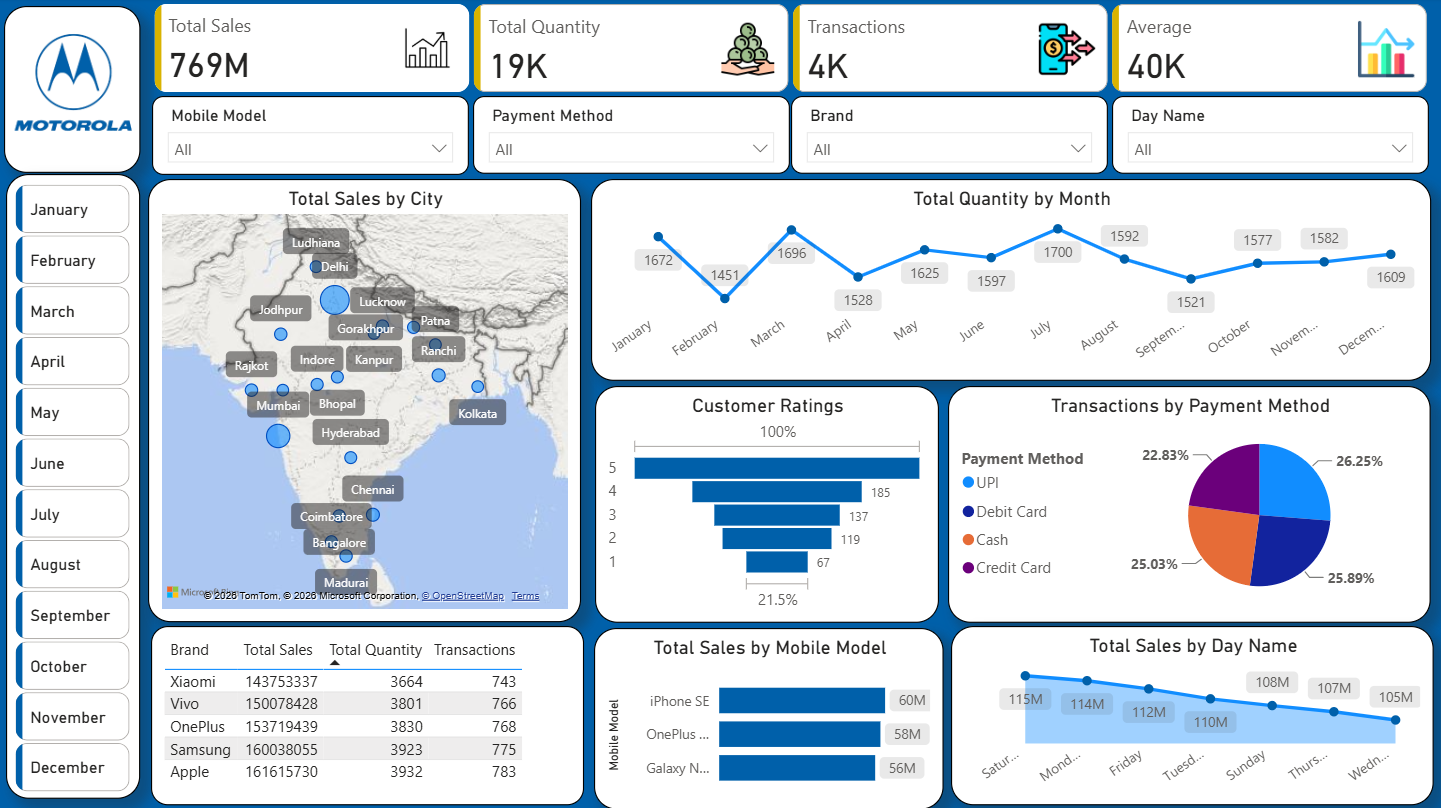

The dashboard page shown, as its layout file describes it:
{"tool":"powerbi","page":{"name":"Page 1","canvas":[1280,720],"ordinal":0},"visuals":[{"type":"shape","box":[5.5,6.9,120.8,148.2],"z":0},{"type":"image","box":[9.6,16.5,113.9,116.6],"z":1000},{"type":"shape","box":[6.9,156.4,119.4,554.4],"z":2000},{"type":"advancedSlicerVisual","fields":{"Values":["Sales_Data.Date.Variation.Date Hierarchy.Month"]},"box":[11,160.5,111.1,548.9],"z":3000},{"type":"cardVisual","fields":{"Data":["Sales_Data.Total Sales","Sales_Data.Total Quantity","Sales_Data.Transactions","Sales_Data.Average"]},"box":[134,5.6,1140.1,83.7],"z":4000},{"type":"map","fields":{"Category":["Sales_Data.City"],"Size":["Sales_Data.Total Sales"]},"box":[132.9,160.8,384.1,393.1],"z":5000},{"type":"lineChart","fields":{"Y":["Sales_Data.Total Quantity"],"Category":["Sales_Data.Date.Variation.Date Hierarchy.Month","Sales_Data.Date.Variation.Date Hierarchy.Day"]},"box":[525.9,160.8,744.8,178.7],"z":6000},{"type":"clusteredBarChart","fields":{"Category":["Sales_Data.Mobile Model"],"Y":["Sales_Data.Total Sales"]},"box":[528.3,558.5,310.1,160.5],"z":7000},{"type":"pieChart","fields":{"Category":["Sales_Data.Payment Method"],"Y":["Sales_Data.Transactions"]},"box":[842.5,344.4,428.1,209.9],"z":8000},{"type":"funnel","title":"Customer Ratings","fields":{"Category":["Sales_Data.Customer Ratings"],"Y":["CountNonNull(Sales_Data.Customer Ratings)"]},"box":[529.7,344.4,304.6,209.9],"z":9000},{"type":"areaChart","fields":{"Category":["Sales_Data.Day Name"],"Y":["Sales_Data.Total Sales"]},"box":[845.3,557.1,428.1,159.2],"z":10000},{"type":"tableEx","fields":{"Values":["Sales_Data.Brand","Sales_Data.Total Sales","Sales_Data.Total Quantity","Sales_Data.Transactions"]},"box":[135.8,557.1,384.2,159.2],"z":11000},{"type":"slicer","fields":{"Values":["Sales_Data.Mobile Model"]},"box":[136.2,87.1,281.4,70.3],"z":12000},{"type":"slicer","fields":{"Values":["Sales_Data.Payment Method"]},"box":[421,87.1,281.4,69.2],"z":13000},{"type":"slicer","fields":{"Values":["Sales_Data.Brand"]},"box":[703.5,87.1,281.4,69.2],"z":14000},{"type":"slicer","fields":{"Values":["Sales_Data.Day Name"]},"box":[988.2,87.1,281.4,69.2],"z":15000}]}

Visuals, with their boxes in screenshot pixels (x1, y1, x2, y2), scaled from the page's 1280x720 canvas onto the 1441x808 screenshot:
shape: bbox=(6, 8, 142, 174)
image: bbox=(11, 19, 139, 149)
shape: bbox=(8, 176, 142, 798)
advancedSlicerVisual - Sales_Data.Date.Variation.Date Hierarchy.Month: bbox=(12, 180, 137, 796)
cardVisual - Sales_Data.Total Sales x Sales_Data.Total Quantity: bbox=(151, 6, 1434, 100)
map - Sales_Data.City x Sales_Data.Total Sales: bbox=(150, 180, 582, 622)
lineChart - Sales_Data.Total Quantity x Sales_Data.Date.Variation.Date Hierarchy.Month: bbox=(592, 180, 1431, 381)
clusteredBarChart - Sales_Data.Mobile Model x Sales_Data.Total Sales: bbox=(595, 627, 944, 807)
pieChart - Sales_Data.Payment Method x Sales_Data.Transactions: bbox=(948, 386, 1430, 622)
"Customer Ratings" funnel: bbox=(596, 386, 939, 622)
areaChart - Sales_Data.Day Name x Sales_Data.Total Sales: bbox=(952, 625, 1434, 804)
tableEx - Sales_Data.Brand x Sales_Data.Total Sales: bbox=(153, 625, 585, 804)
slicer - Sales_Data.Mobile Model: bbox=(153, 98, 470, 177)
slicer - Sales_Data.Payment Method: bbox=(474, 98, 791, 175)
slicer - Sales_Data.Brand: bbox=(792, 98, 1109, 175)
slicer - Sales_Data.Day Name: bbox=(1112, 98, 1429, 175)
